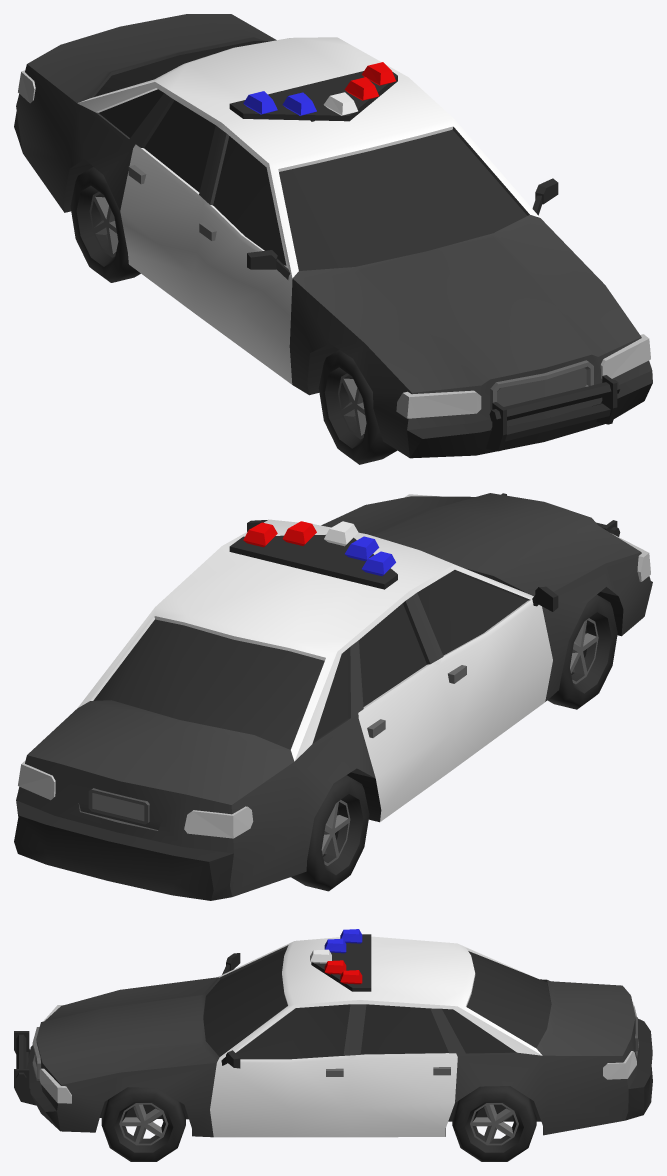
The model's file is police.obj.
3 views of the same model, one above another, from view 1: azimuth 30°, elevation 25°; view 2: azimuth 150°, elevation 25°; view 3: azimuth 270°, elevation 25° (orthographic). The views are drawn at different scales.
Visible parts, largest first — view 1: police, wheels.028, wheels.029; view 2: police, wheels.029, wheels.028; view 3: police, wheels.030, wheels.031.
Boxes of the visible parts, <box> form: police: <box>14,14,652,458</box>; wheels.028: <box>318,350,397,464</box>; wheels.029: <box>70,167,140,282</box>; police: <box>14,493,652,900</box>; wheels.029: <box>291,775,369,891</box>; wheels.028: <box>547,595,617,709</box>; police: <box>14,929,652,1137</box>; wheels.030: <box>452,1086,536,1161</box>; wheels.031: <box>101,1087,185,1161</box>.
Bounding box in the file's own units: 2.25 × 1.67 × 5.72.
